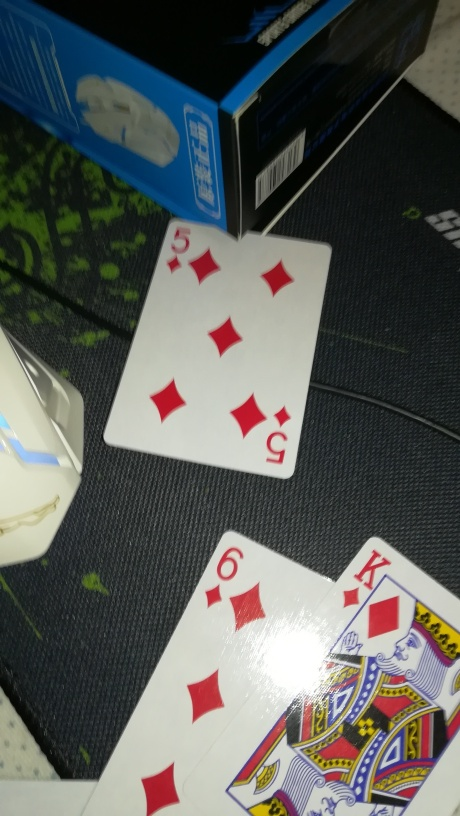fk 5: (101, 207, 333, 484)
